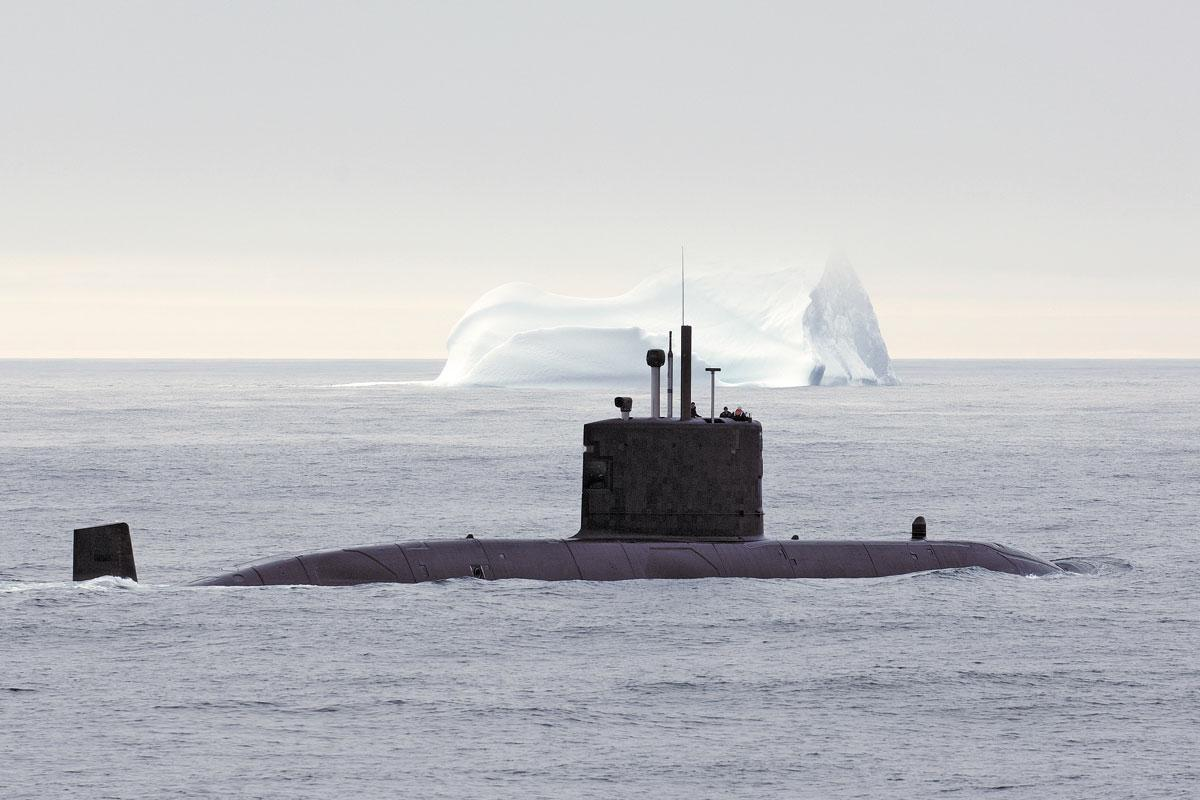Submarine: (0, 362, 1200, 800)
